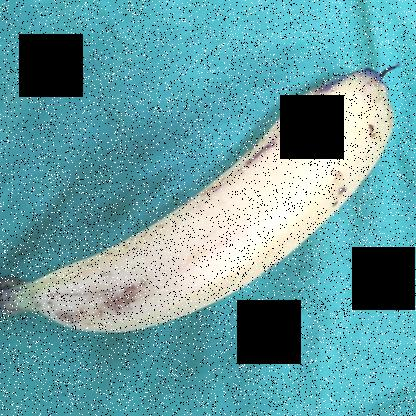ripe: (29, 59, 398, 342)
